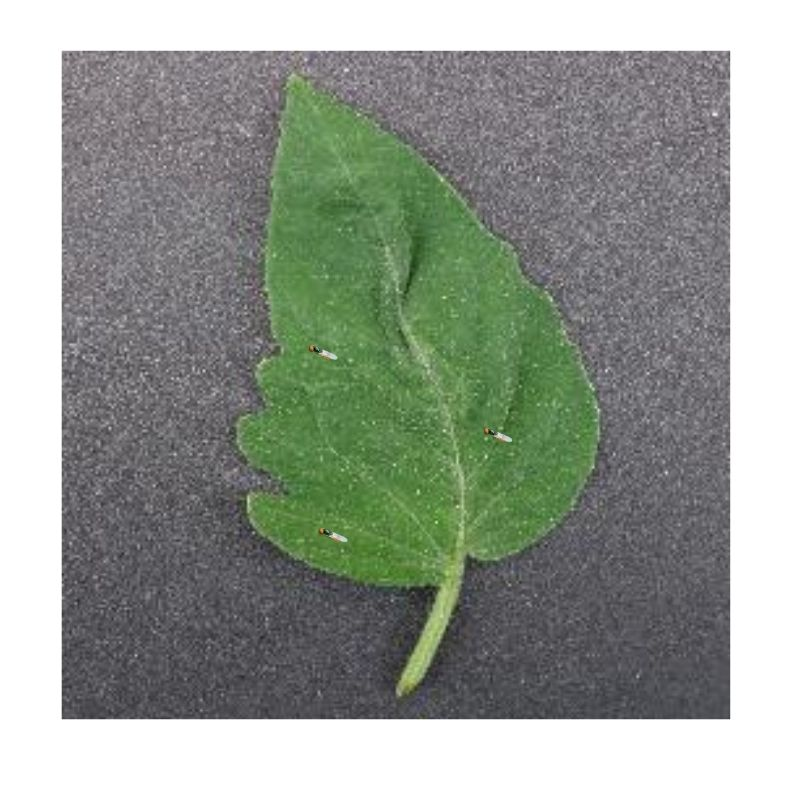liriomyza: (480, 425, 514, 444), (319, 524, 349, 545), (307, 343, 340, 362)
